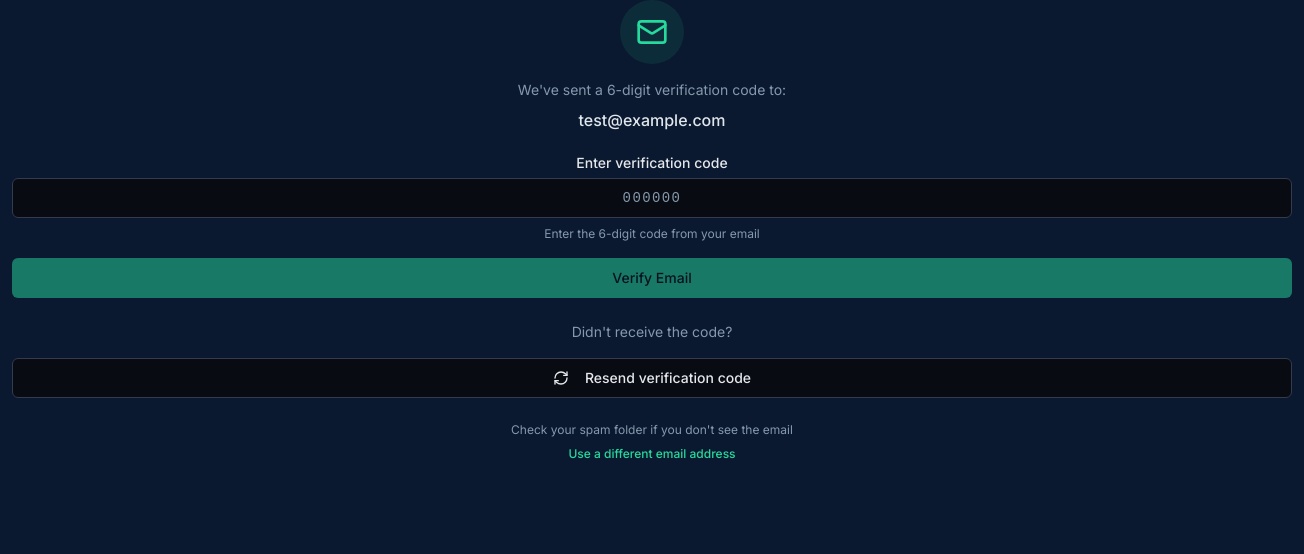
Test: EmailVerificationForm › Email Verification Process › should handle successful verification
The image size is (1304, 554).
Type "123456" into the field labelled "Enter verification code".
click(652, 198); type("123456")  # box [12,178,1292,218]
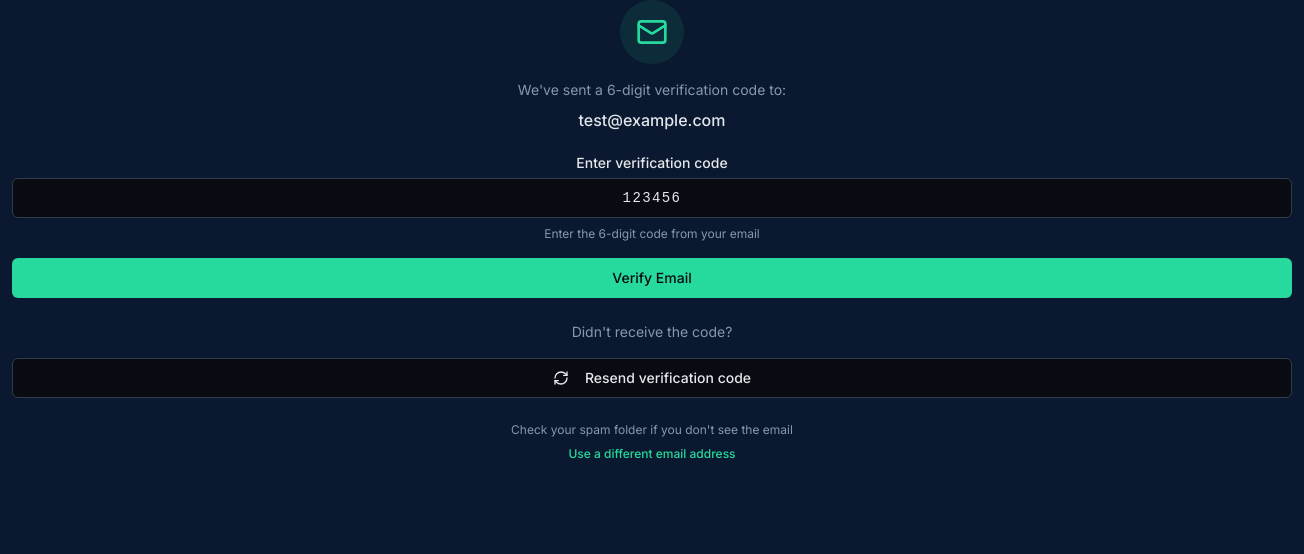
Click the button "Verify Email".
click(652, 278)  # box [12,258,1292,298]
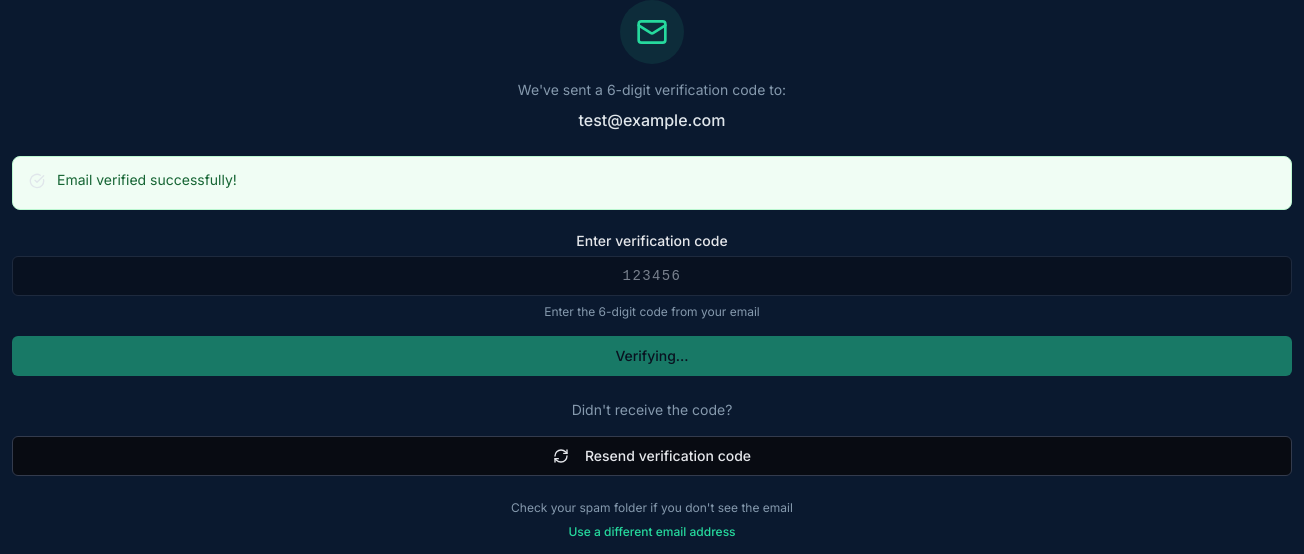
Expected: the button named "verify email" reads "Verifying...", [12,336,1292,376]
Expected: the button named "verify email" is disabled, [12,336,1292,376]
Expected: the text "Email verified successfully!" is shown, [57,171,237,188]
